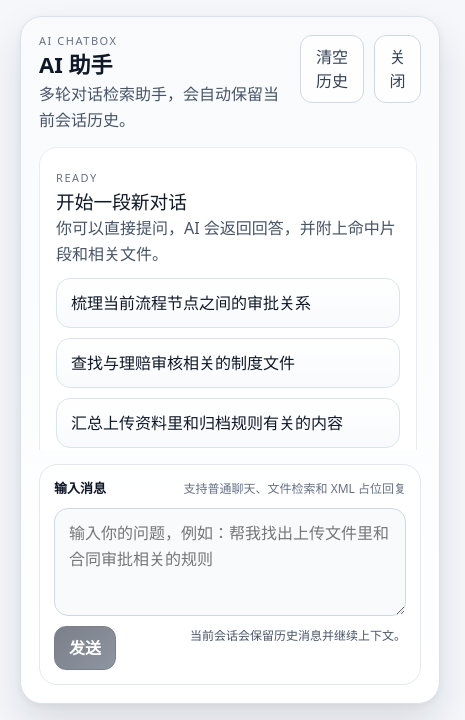
it: AiAssistantPopover › sends a message and appends assistant reply with references
The width and height of the screenshot is (465, 720).
Type "理赔流程" into the text box with test id "ai-question-input" at (230, 562), box [54, 508, 406, 616]
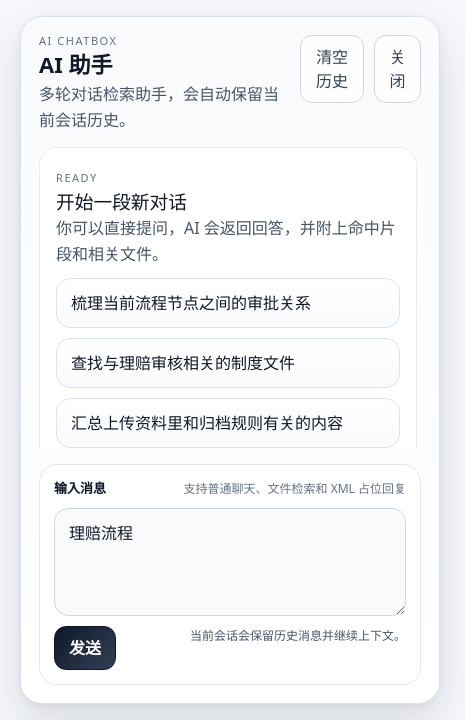
Click the button with test id "ai-submit" at (85, 648), box [54, 626, 116, 670]
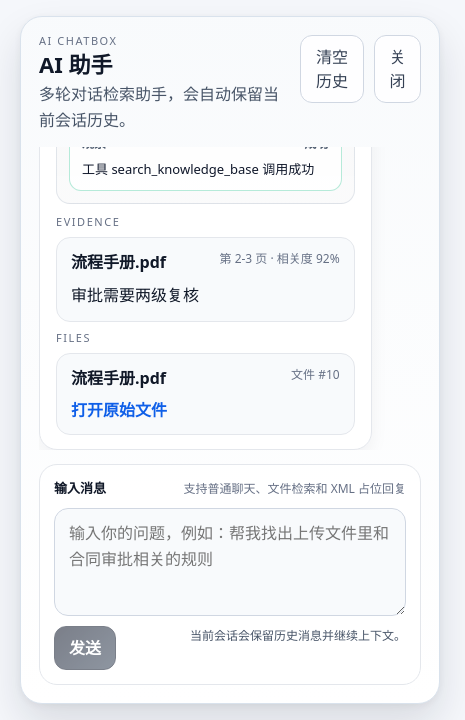
Now the text "审批需要两级复核" is shown, box [71, 284, 199, 306]
Now the text "流程手册.pdf" is shown, box [71, 250, 166, 274]
